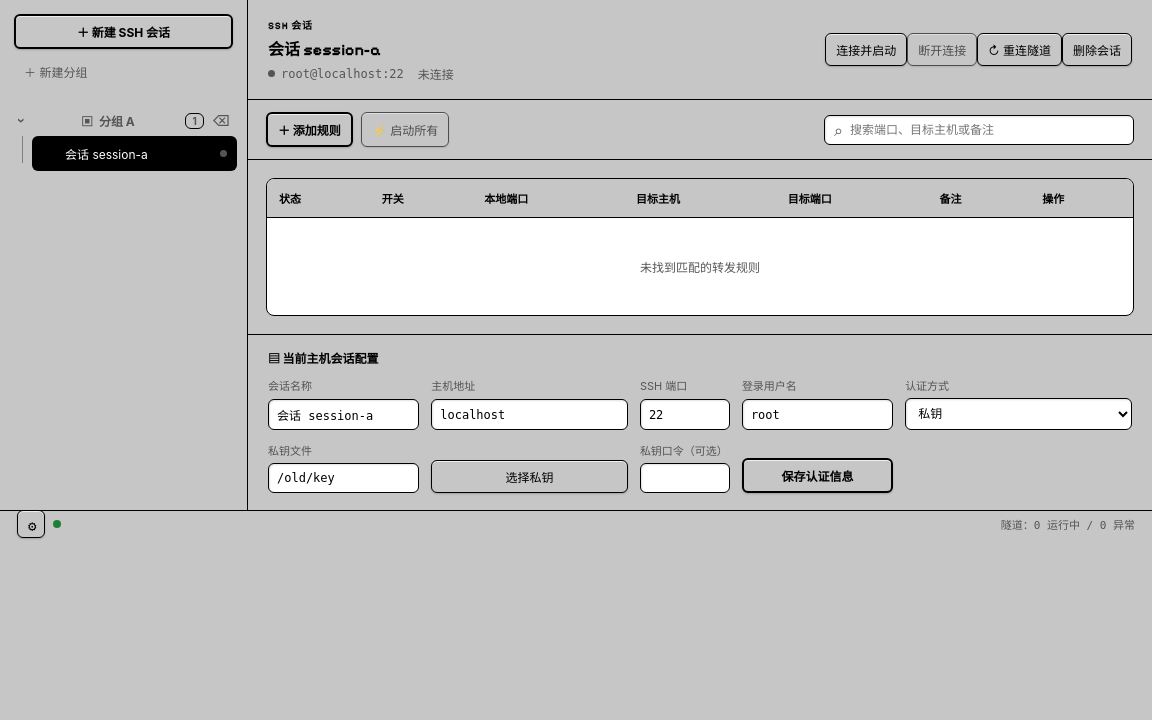
Test: App › restores the previous private-key path when picker persistence fails
Click the button with test id "choose-private-key": click(530, 476) [431,460,628,493]
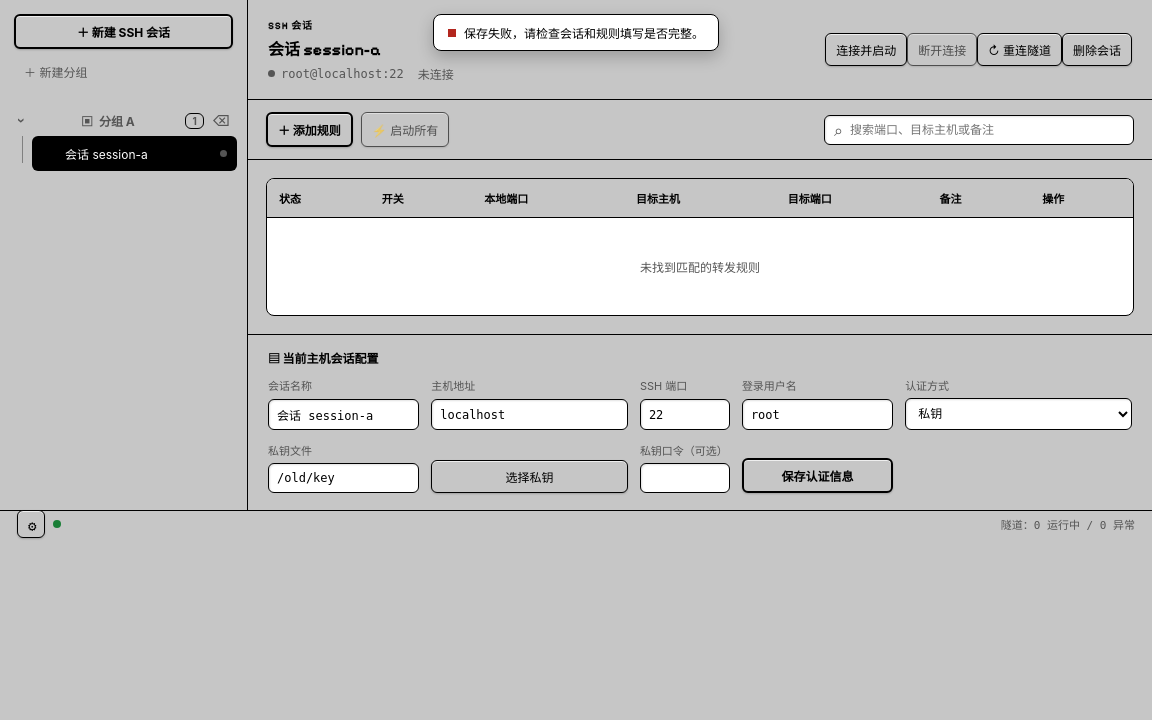
Expected: the field named "私钥文件" holds "/old/key", [268,463,419,493]
Now the element with test id "toast-stack" reads "保存失败，请检查会话和规则填写是否完整。", box [464,26,704,41]
